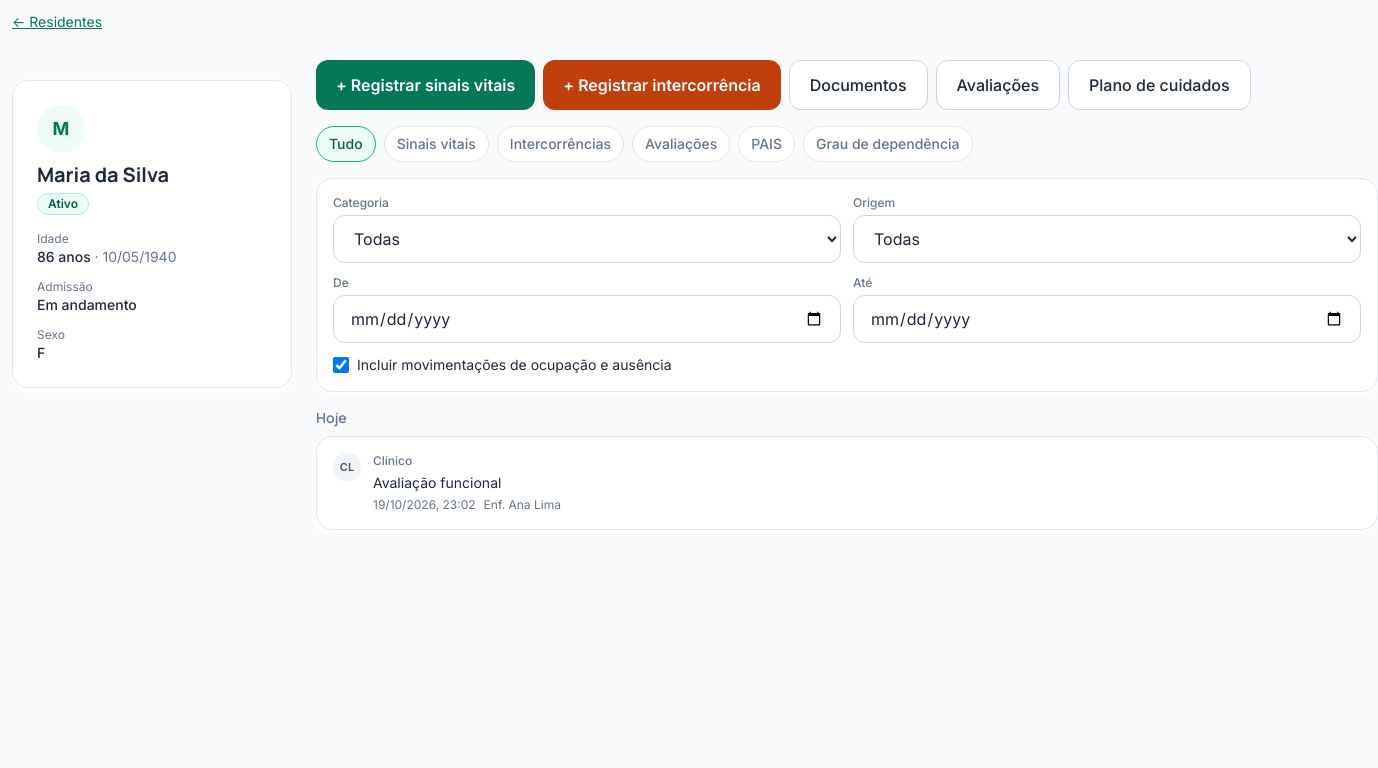
Test: ResidenteProntuario › 22. resposta fora de ordem não sobrescreve o filtro mais recente
Expected: the text "Avaliação funcional" is shown, [373,474,501,491]
Step 1. Select "Clínico" in the dropdown labelled "Categoria" → (587,239), box [333,215,841,263]
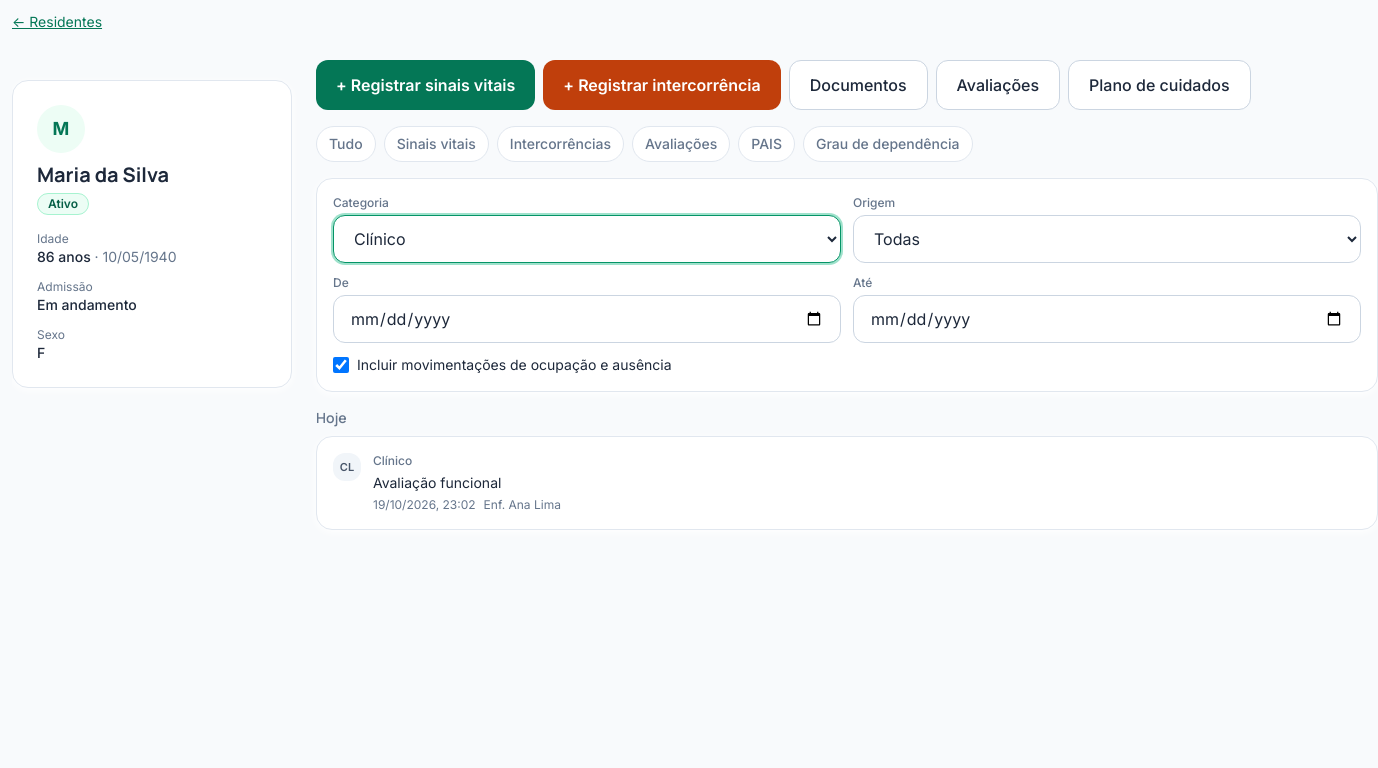
Step 2. Select "Sinais vitais" in the dropdown labelled "Origem" → (1107,239), box [853,215,1361,263]
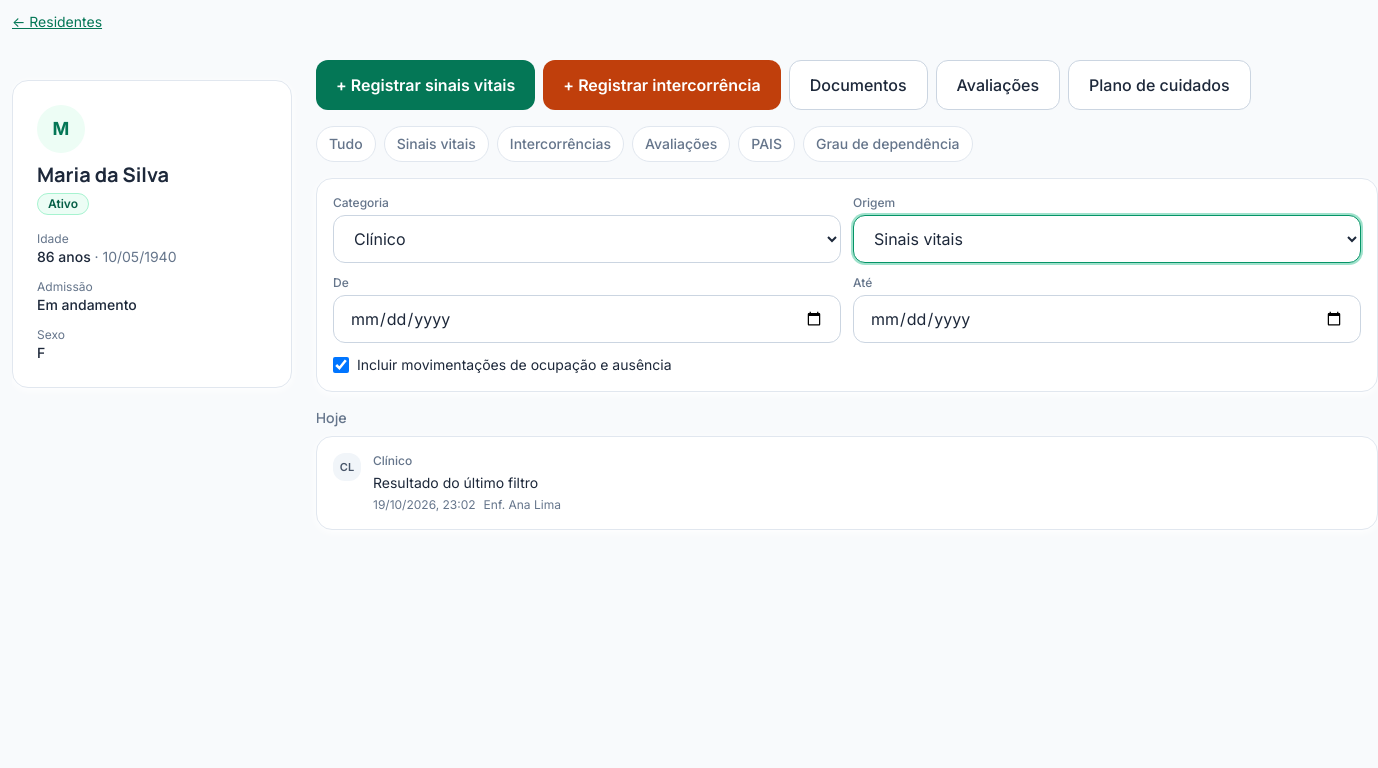
Expected: the text "Resultado do último filtro" is shown, [373,474,538,491]
